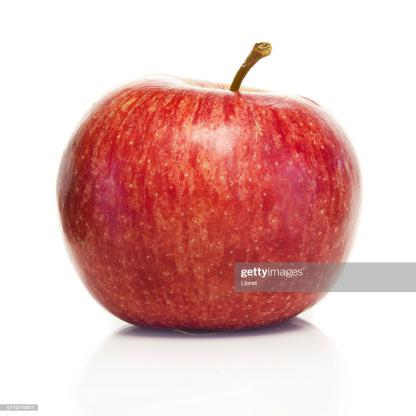Apple: (45, 29, 393, 350)
